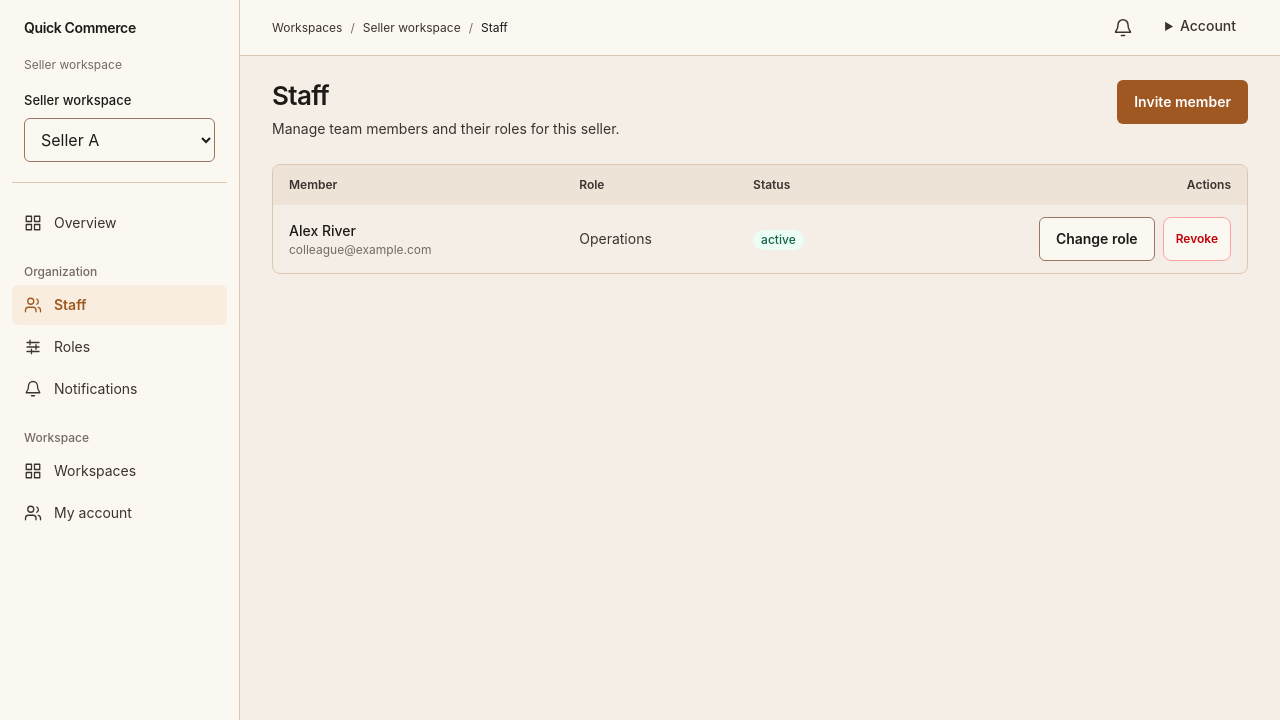
Scenario: staff access workflow › requires a target-specific confirmation and keeps backend rejection visible
What coordinates should you click on to do the following:
click the button "Revoke"
I would click on:
 (1197, 239)
Its box is [1163,217,1231,261].
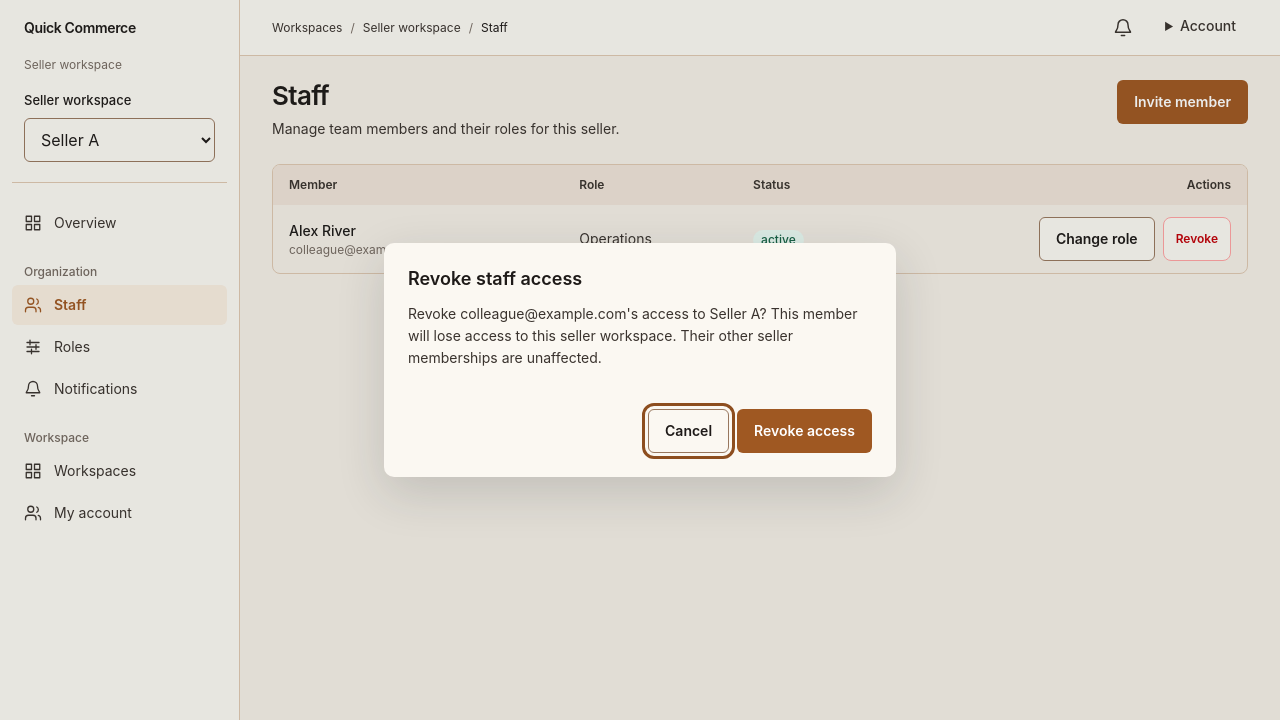
What coordinates should you click on to do the following:
click the button "Cancel"
I would click on:
 (688, 431)
Its box is [648,409,729,453].
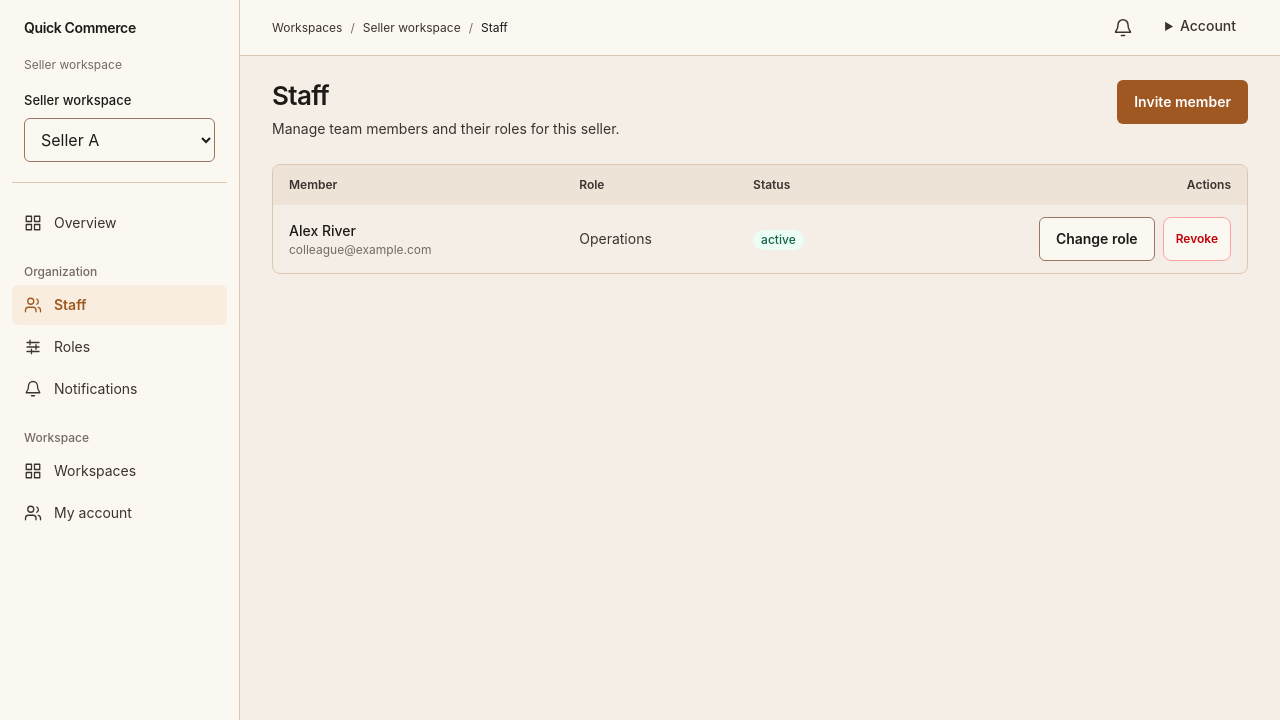
What coordinates should you click on to do the following:
click the button "Revoke"
I would click on:
 (1197, 239)
Its box is [1163,217,1231,261].
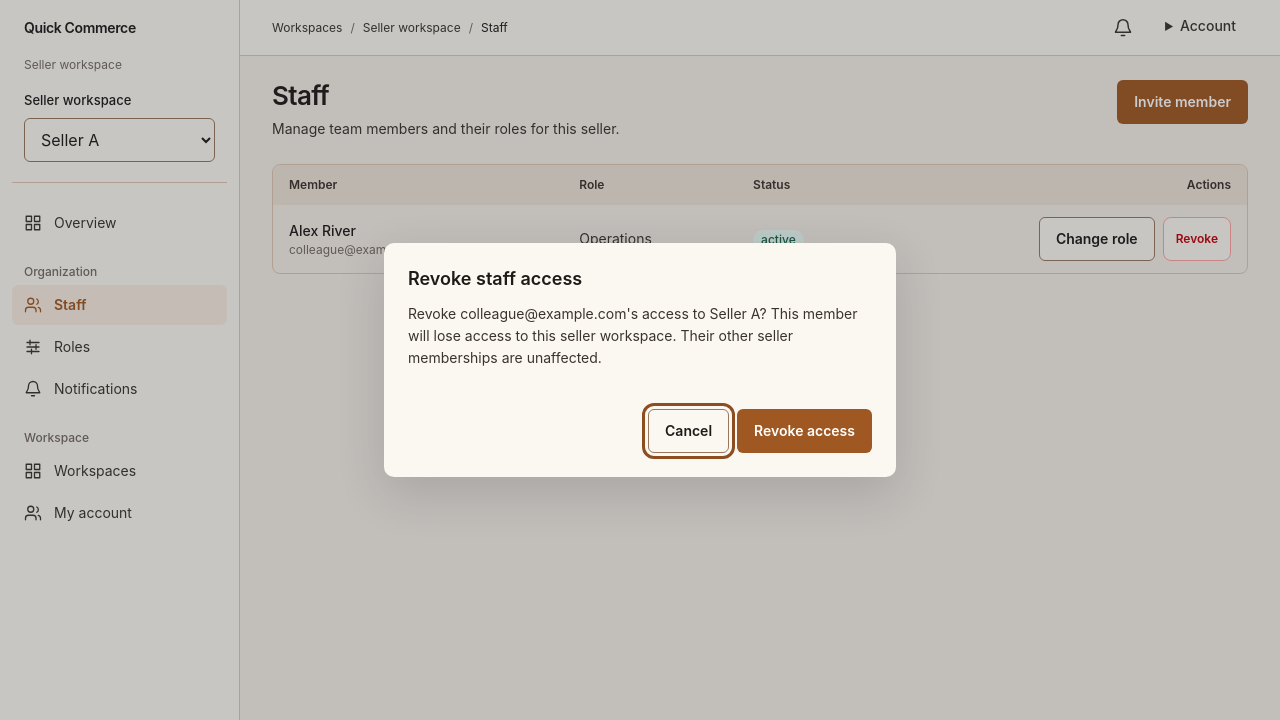
What coordinates should you click on to do the following:
click the button "Revoke access"
I would click on:
 (805, 431)
Its box is [737,409,872,453].
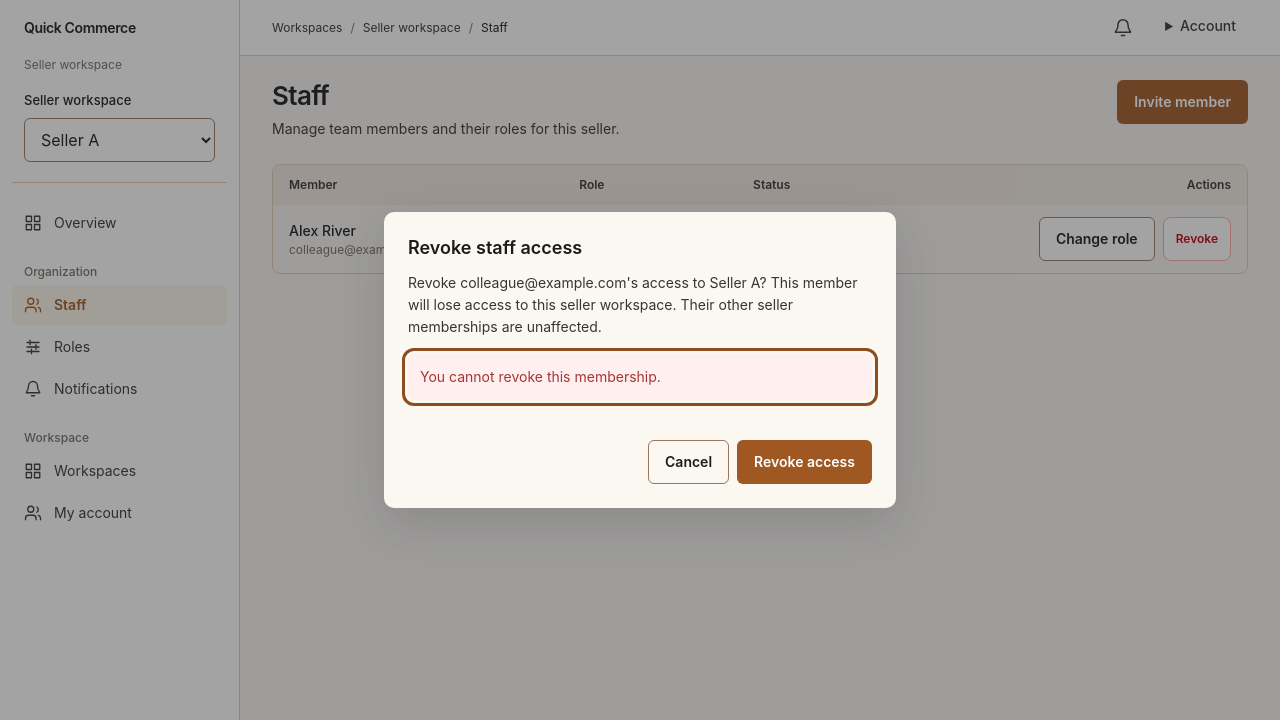
Expected: the dialog "Revoke staff access" is shown, [384,212,896,508]
Expected: the message reads "You cannot revoke this membership.", [420,368,661,385]
